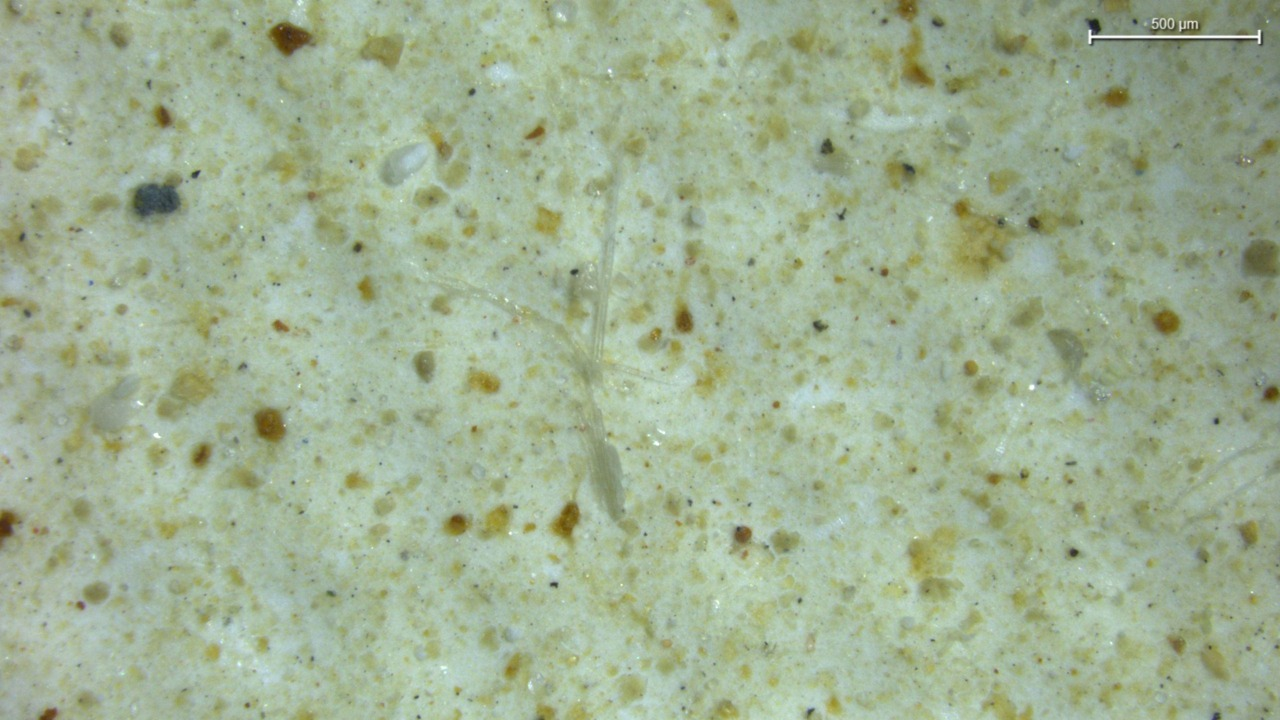microplastic_fragment: (89, 375, 139, 431), (381, 141, 437, 185), (360, 35, 403, 69)
